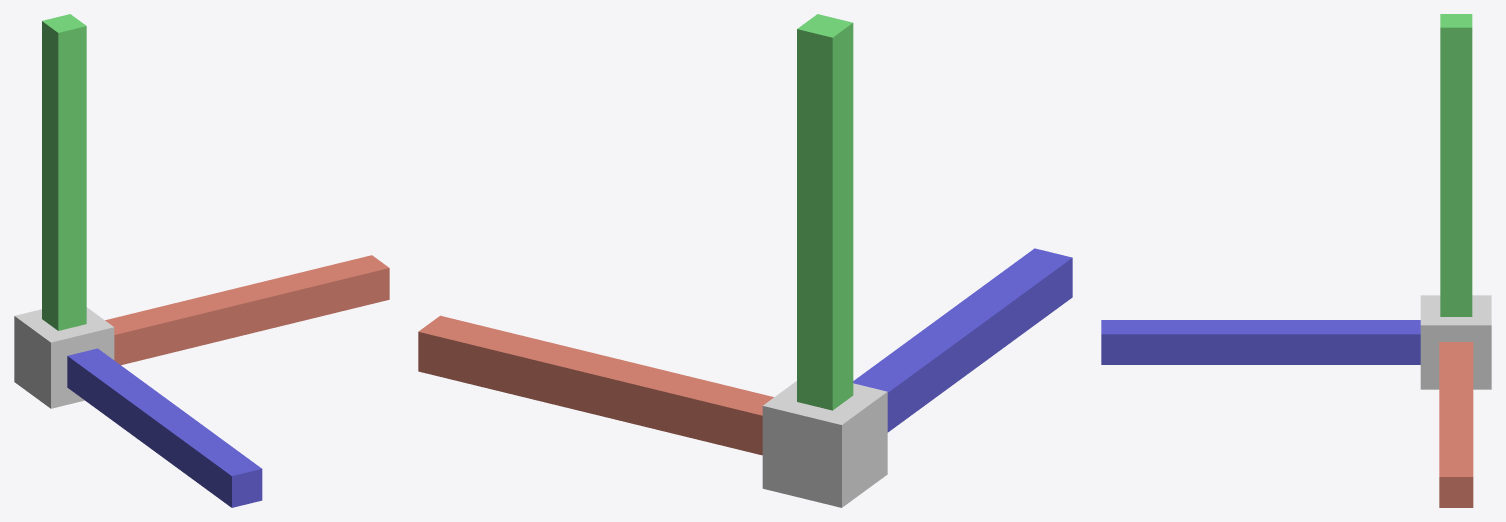
File: gizmo.gltf
3 renders of one model, left to right at view 1: azimuth 30°, elevation 25°; view 2: azimuth 150°, elevation 25°; view 3: azimuth 270°, elevation 25°, orthographic. The views are drawn at different scales.
Visible parts, largest first — view 1: Plane; view 2: Plane; view 3: Plane.
Boxes of the visible parts, x1,y1,x2,y2 form: Plane: (14, 14, 389, 507); Plane: (418, 14, 1072, 507); Plane: (1101, 14, 1491, 507).
Bounding box in the file's own units: 0.55 × 0.55 × 0.55.
